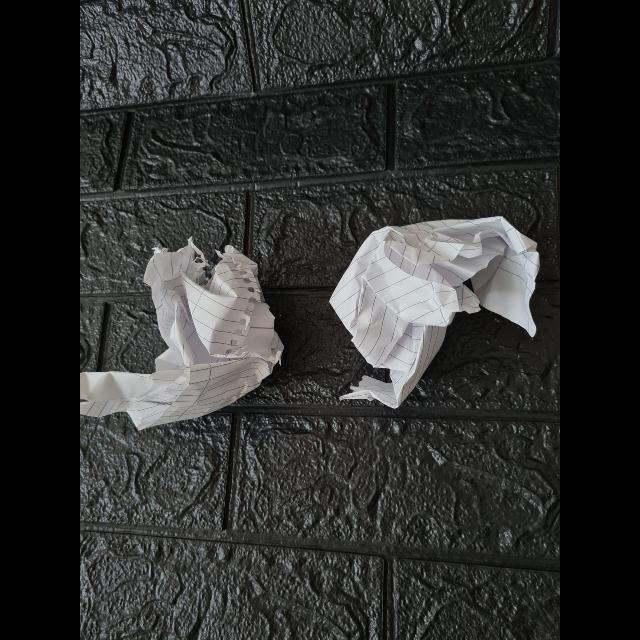trash: (340, 211, 552, 403), (90, 240, 282, 430)
